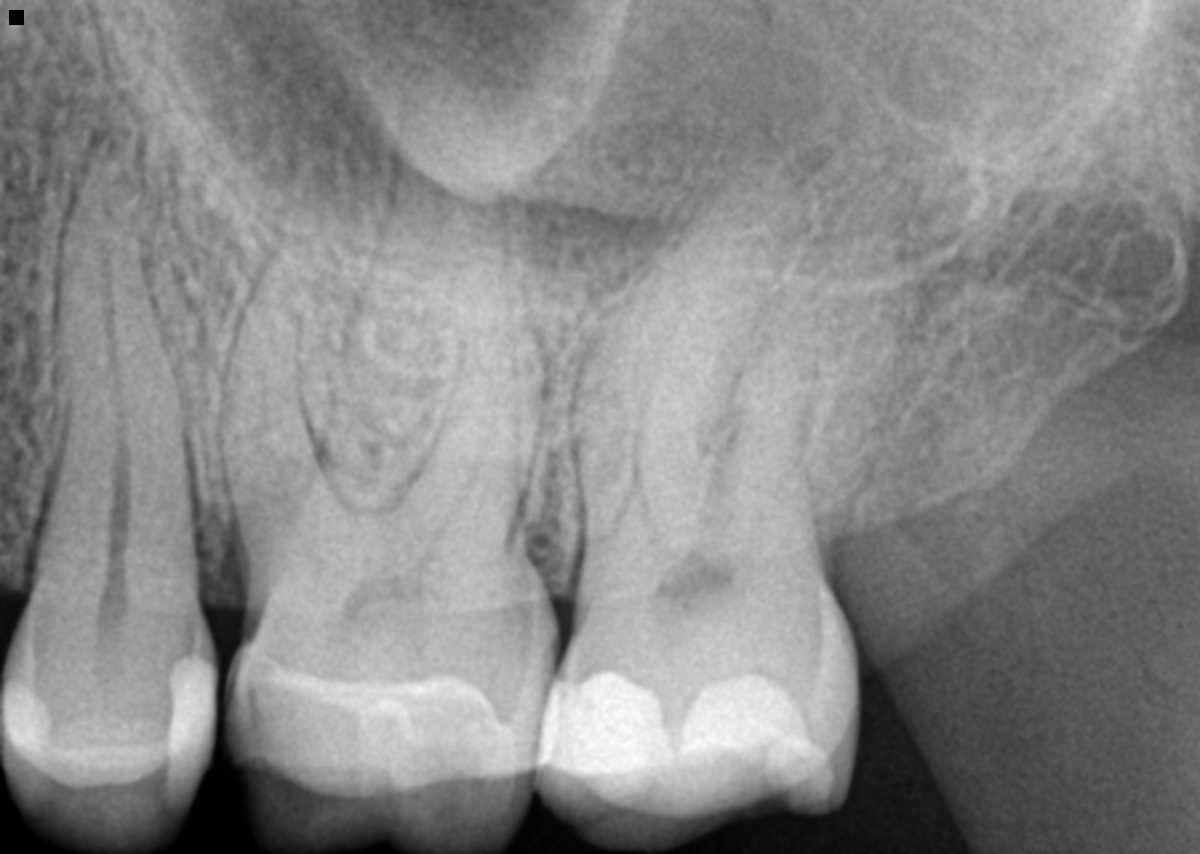Distal Root: (712, 258, 904, 564), (382, 246, 543, 542)
Main Canal: (101, 155, 135, 603)
Main Root: (31, 135, 206, 609)
Mesial Canal: (630, 367, 666, 536)
Mesial Root: (571, 260, 769, 553), (223, 229, 344, 570)
Palatal Root: (299, 62, 515, 533), (596, 127, 822, 567)
